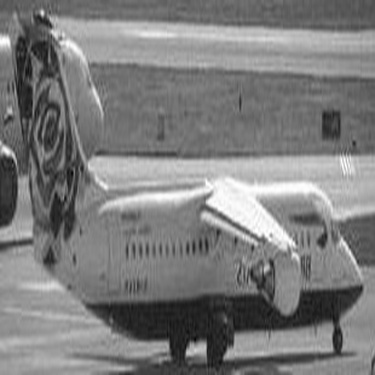airplane: (3, 1, 371, 369), (1, 5, 112, 239)
